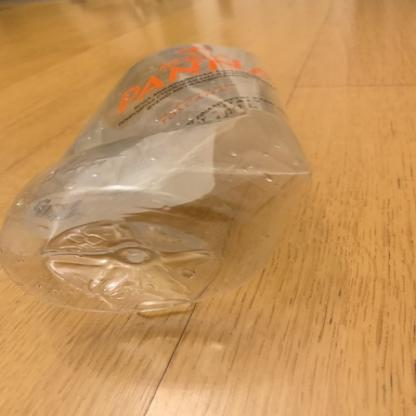trash: (1, 41, 316, 318)
